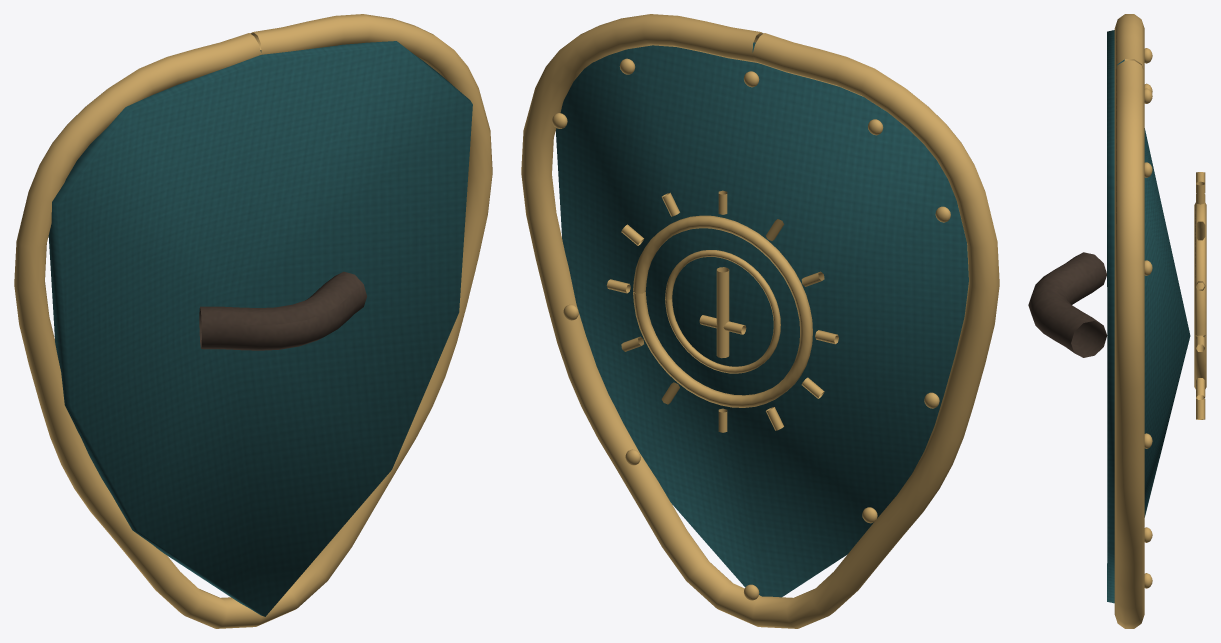
The model's file is sunshield.glb.
3 renders of one model, left to right at view 1: azimuth 30°, elevation 25°; view 2: azimuth 150°, elevation 25°; view 3: azimuth 270°, elevation 25°, orthographic. The views are drawn at different scales.
Parts seen in each view (by area): view 1: Sunshield_teal_cloth, Sunshield_gold, Sunshield_leather; view 2: Sunshield_teal_cloth, Sunshield_gold; view 3: Sunshield_gold, Sunshield_teal_cloth, Sunshield_leather.
Part boxes in pixels (<box>): Sunshield_teal_cloth: <box>48,41,472,616</box>; Sunshield_gold: <box>14,14,492,628</box>; Sunshield_leather: <box>199,271,366,350</box>; Sunshield_teal_cloth: <box>556,42,968,597</box>; Sunshield_gold: <box>521,14,999,628</box>; Sunshield_gold: <box>1114,14,1206,628</box>; Sunshield_teal_cloth: <box>1107,30,1190,603</box>; Sunshield_leather: <box>1028,252,1107,357</box>.
Size of the model in its own units: 0.7647 by 0.9117 by 0.264.
3 materials, 2 textured.
